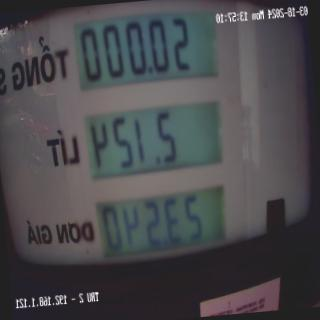screen: (66, 3, 246, 285)
